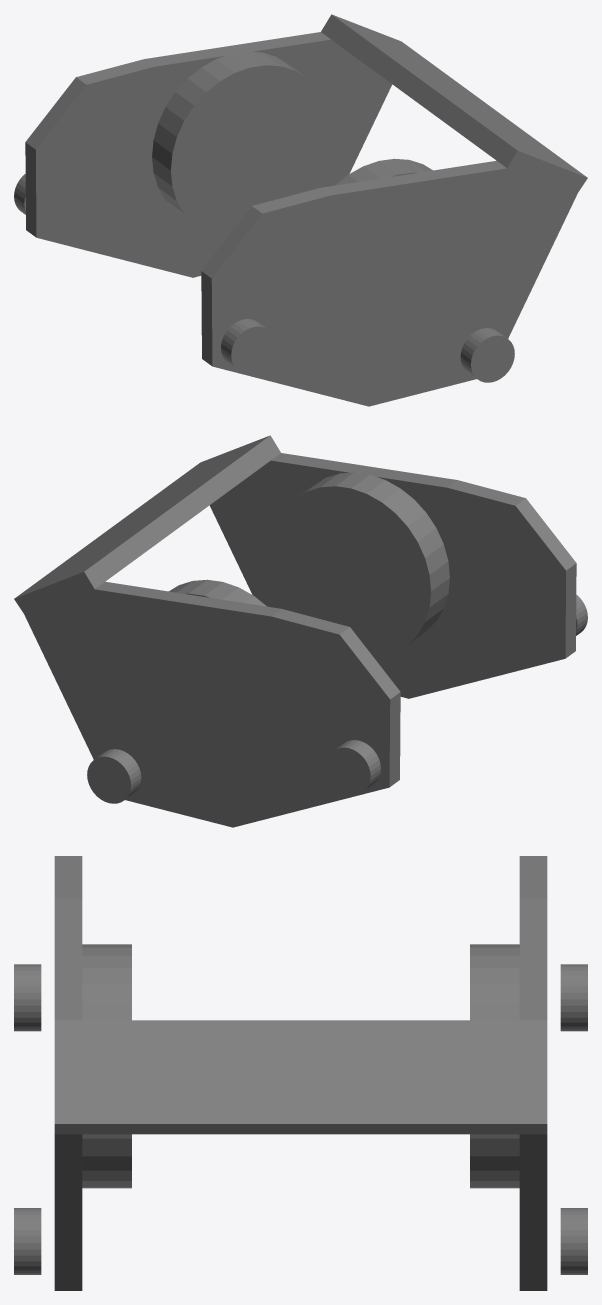
File: leg_pitch_low.dae
3 renders of one model, top to bottom at view 1: azimuth 30°, elevation 25°; view 2: azimuth 150°, elevation 25°; view 3: azimuth 270°, elevation 25°, orthographic. The views are drawn at different scales.
Visible parts, largest first — view 1: 立方体; view 2: 立方体; view 3: 立方体.
Boxes of the visible parts, bbox=[...] form: 立方体: bbox=[14, 14, 587, 406]; 立方体: bbox=[14, 435, 587, 827]; 立方体: bbox=[14, 856, 587, 1290].
Size of the model in its own units: 0.0379 by 0.0379 by 0.0212.
1 material, 1 textured.
